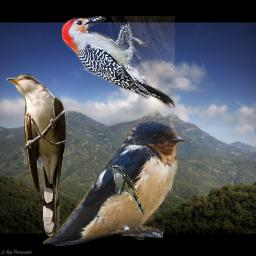Cuckoo: (6, 74, 67, 238), (108, 165, 146, 215)
Swallow: (43, 119, 188, 247)
Woodpecker: (62, 16, 175, 108)
